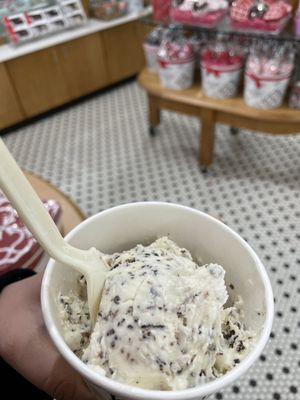salad: (0, 136, 114, 352)
sushi: (6, 201, 275, 397)
